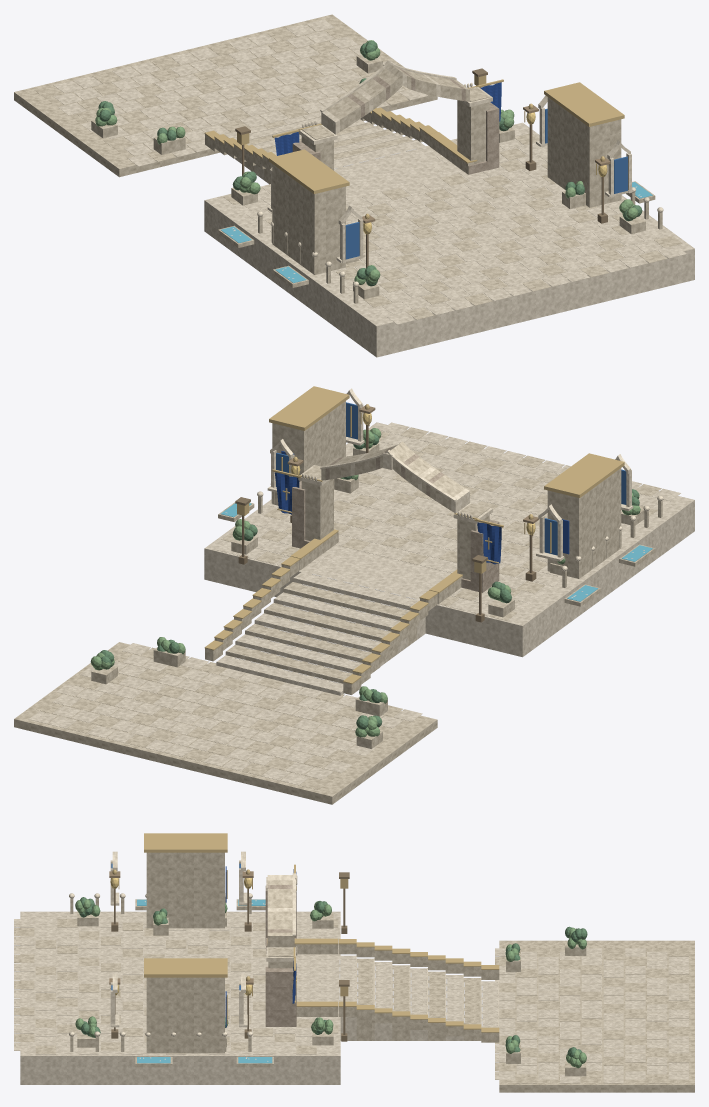
File: AOTL_Citadel_MasonryArt_v17.glb
3 views of the same model, one above another, from view 1: azimuth 30°, elevation 25°; view 2: azimuth 150°, elevation 25°; view 3: azimuth 270°, elevation 25° (orthographic). The views are drawn at different scales.
Parts seen in each view (by area): view 1: ENV_UpperStoneCourt, ENV_LowerStoneCourt, ENV_TerracePilaster_L, ENV_TerracePilaster_R, ENV_TerraceCoping_L, ENV_TerraceCoping_R, GATE_Pier_R, STAIR_UpperLanding, GATE_PierSideButtress_R, GATE_Pier_L, STAIR_Tread_09, ART_Niche_IndigoBacking_L_2; view 2: ENV_UpperStoneCourt, ENV_LowerStoneCourt, ENV_TerracePilaster_L, ENV_TerracePilaster_R, ENV_TerraceCoping_L, ENV_TerraceCoping_R, GATE_Pier_R, STAIR_Tread_08, STAIR_Tread_07, STAIR_Tread_09, STAIR_Tread_01, STAIR_Tread_06 (+10 smaller); view 3: ENV_UpperStoneCourt, ENV_LowerStoneCourt, ENV_TerracePilaster_R, ENV_TerracePilaster_L, GATE_PierSideButtress_R, ENV_TerraceCoping_L, ENV_TerraceCoping_R, STAIR_Tread_08, STAIR_Tread_07, STAIR_Tread_06, STAIR_UpperLanding, STAIR_Tread_05 (+9 smaller).
Boxes of the visible parts, x1,y1,x2,y2 form: ENV_UpperStoneCourt: (204,122,694,357); ENV_LowerStoneCourt: (14,14,437,177); ENV_TerracePilaster_L: (272,164,345,274); ENV_TerracePilaster_R: (547,97,621,207); ENV_TerraceCoping_L: (269,149,349,193); ENV_TerraceCoping_R: (544,82,624,126); GATE_Pier_R: (457,87,489,162); STAIR_UpperLanding: (346,147,454,168); GATE_PierSideButtress_R: (486,102,499,170); GATE_Pier_L: (301,125,333,170); STAIR_Tread_09: (334,140,425,168); ART_Niche_IndigoBacking_L_2: (345,222,359,259); ENV_UpperStoneCourt: (204,422,694,657); ENV_LowerStoneCourt: (14,642,437,804); ENV_TerracePilaster_L: (547,468,621,578); ENV_TerracePilaster_R: (272,401,345,505); ENV_TerraceCoping_L: (544,453,624,497); ENV_TerraceCoping_R: (269,386,349,430); GATE_Pier_R: (301,465,333,541); STAIR_Tread_08: (283,582,416,646); STAIR_Tread_07: (273,592,407,653); STAIR_Tread_09: (292,572,425,639); STAIR_Tread_01: (216,655,343,695); STAIR_Tread_06: (264,603,397,660); ENV_UpperStoneCourt: (20,911,340,1084); ENV_LowerStoneCourt: (499,940,694,1092); ENV_TerracePilaster_R: (146,977,224,1053); ENV_TerracePilaster_L: (146,852,224,928); GATE_PierSideButtress_R: (265,966,296,1026); ENV_TerraceCoping_L: (144,833,227,852); ENV_TerraceCoping_R: (144,958,227,977); STAIR_Tread_08: (356,958,374,1040); STAIR_Tread_07: (374,962,392,1040); STAIR_Tread_06: (392,965,410,1040); STAIR_UpperLanding: (296,957,339,1008); STAIR_Tread_05: (410,968,427,1040).
Bounding box in the file's own units: 21.88 × 9.11 × 38.26.
Materials: 17 (4 with a texture image).
